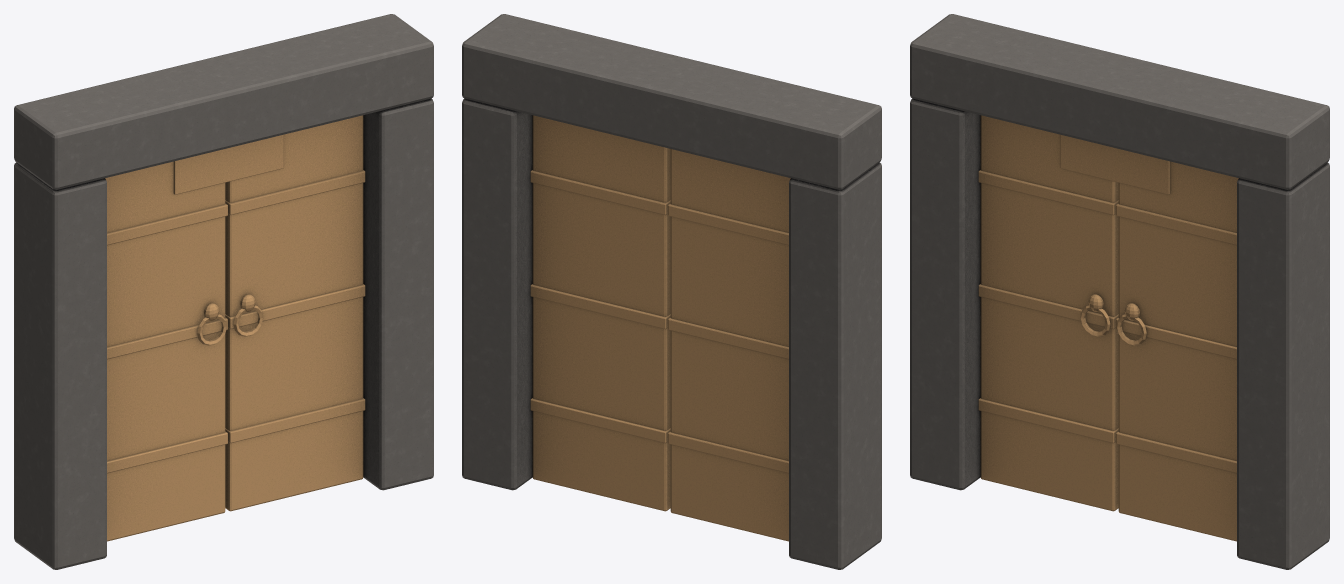
Rendered from dg_porta_bronze.glb.
3 renders of one model, left to right at view 1: azimuth 30°, elevation 25°; view 2: azimuth 150°, elevation 25°; view 3: azimuth 330°, elevation 25°, orthographic.
Visible parts, largest first — view 1: dg_porta_bronze_tronco; view 2: dg_porta_bronze_tronco; view 3: dg_porta_bronze_tronco.
Part boxes in pixels (x1,y1,x2,y2): dg_porta_bronze_tronco: [14, 14, 433, 569]; dg_porta_bronze_tronco: [462, 14, 881, 569]; dg_porta_bronze_tronco: [910, 14, 1329, 569].
Size of the model in its own units: 4.2 by 4.6 by 0.8.
Materials: 1 (1 with a texture image).
